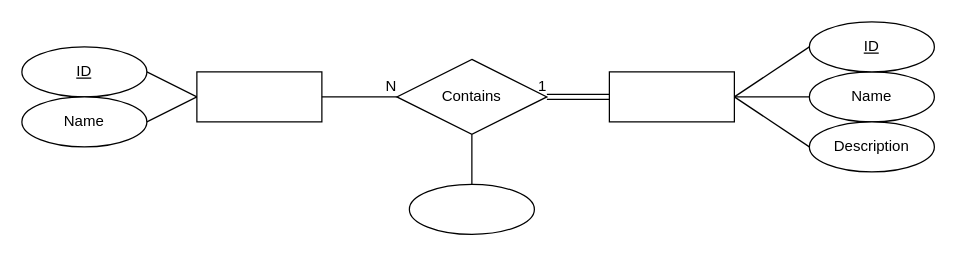
This 956x256 diagram has some shape labels left out. The centre of each missing label's shape, as x and y in pixels:
"Ingrediant" belongs at pixel 259 96.
"Quantity" belongs at pixel 471 208.
"Recipe" belongs at pixel 671 96.
